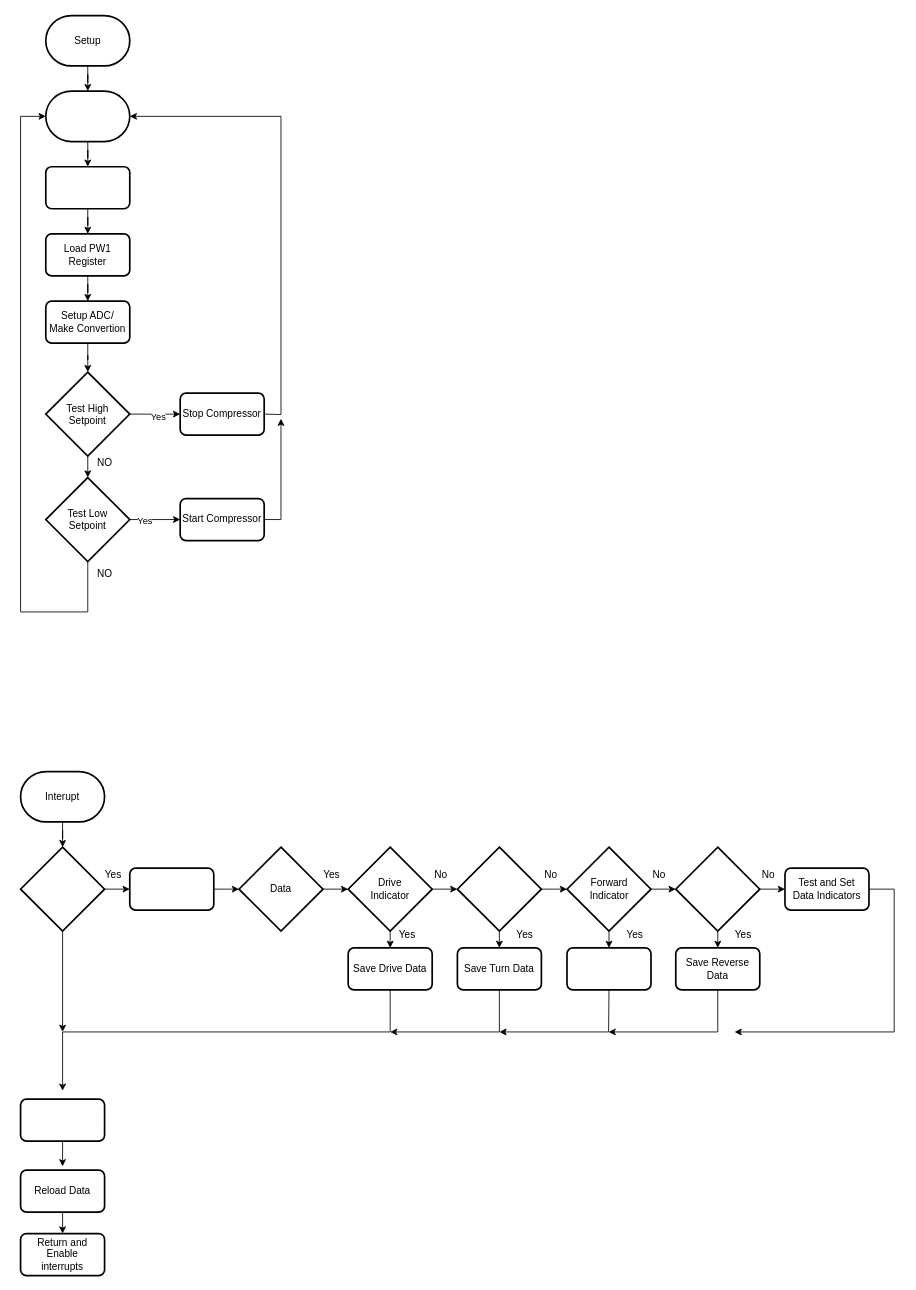
This 916x1290 diagram has some shape labels left out. The shapes that lost their labels are listed below. From the top down, each one's centre as x and y in pixels, then its label:
point (87, 116): Main
point (87, 187): Load PW2 Regisster
point (62, 889): Test I2C Flag
point (171, 889): Start ClockStretch
point (499, 889): Turn Indicator
point (717, 889): Reverse Indicator
point (608, 968): Save Forward Data
point (62, 1120): End Clock Stretch
